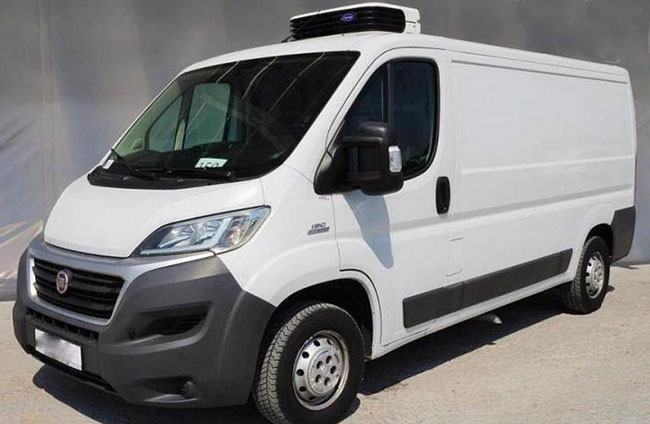van: (18, 4, 639, 422)
